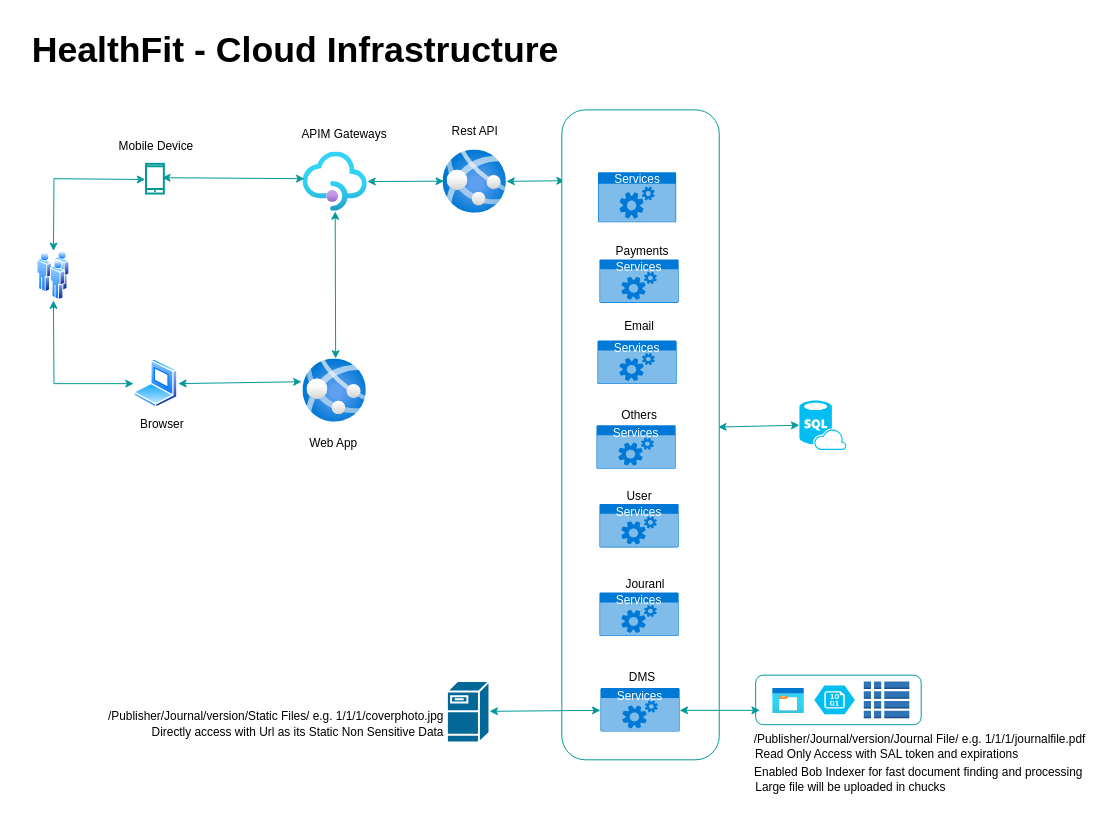
Image size: 1117x837. Some labels were removed from this diagram. Here are the shapes that lost their labels. From the top down, the centre of each, then its label:
At point (640, 154): "Identity & Access (SSO)".
At point (838, 659): "Azure Storage - Container - blob".
At point (381, 700): "File Storage Server 1X".
